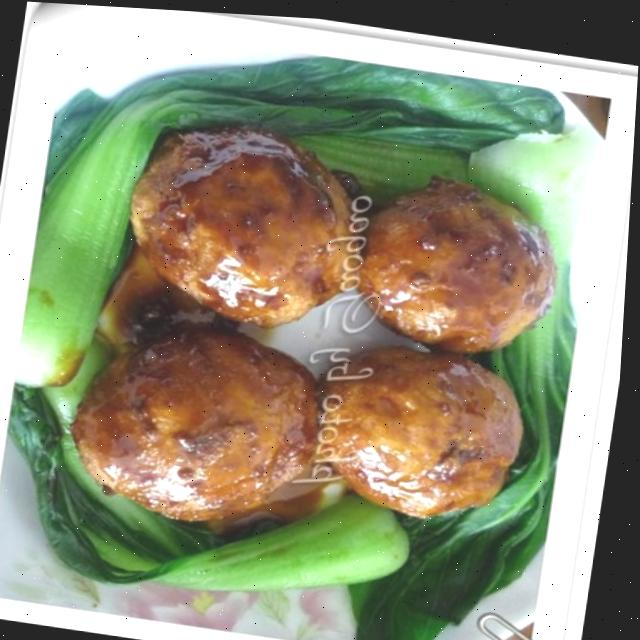猪肉菜式: (0, 83, 610, 627)
